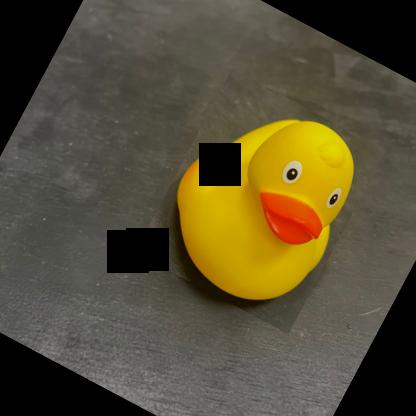duck: (134, 69, 386, 334)
